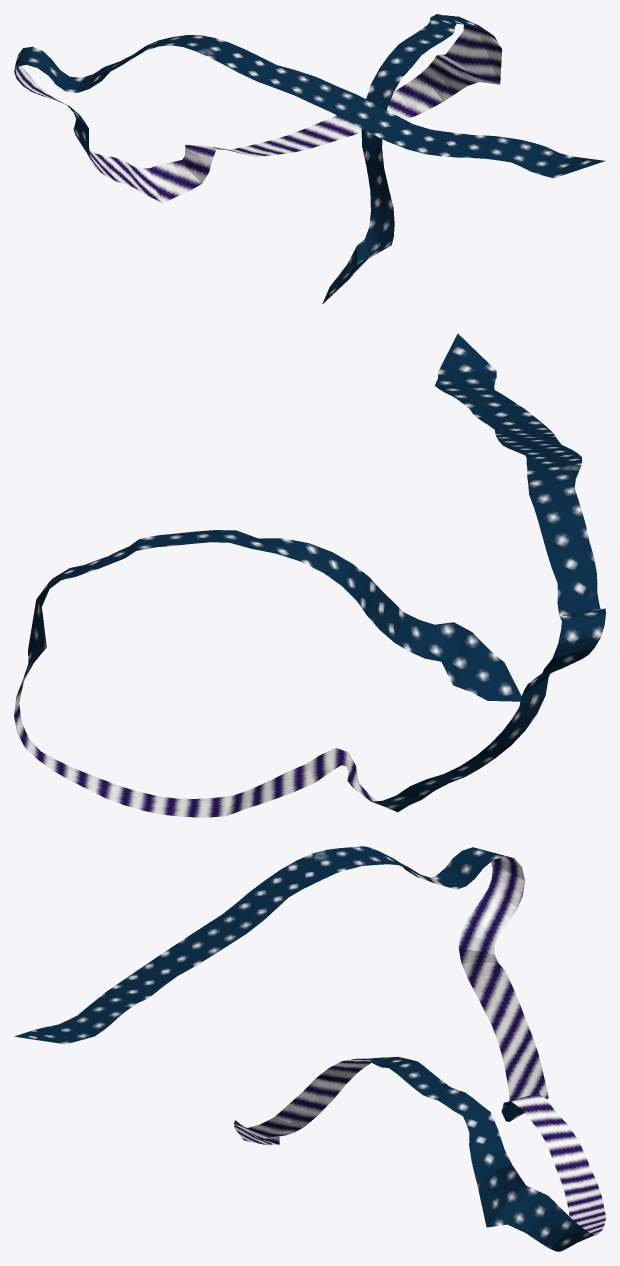
3 renders of one model, top to bottom at view 1: azimuth 30°, elevation 25°; view 2: azimuth 150°, elevation 25°; view 3: azimuth 270°, elevation 25°, orthographic. The views are drawn at different scales.
Parts seen in each view (by area): view 1: Mesh2; view 2: Mesh2; view 3: Mesh2.
Part boxes in pixels (left/top/right/bottom): Mesh2: left=14, top=14, right=604, bottom=303; Mesh2: left=14, top=333, right=605, bottom=817; Mesh2: left=14, top=846, right=605, bottom=1251.
Bounding box in the file's own units: 1.69 × 0.8163 × 1.77.
Materials: 2 (2 with a texture image).
